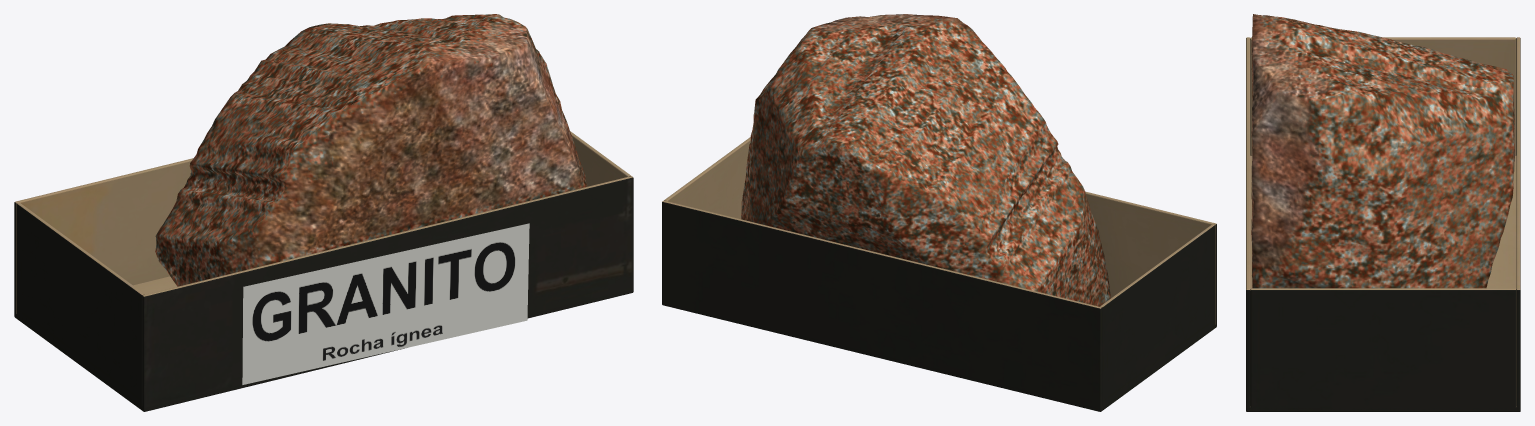
Rendered from rocha_02_06_granito.glb.
3 renders of one model, left to right at view 1: azimuth 30°, elevation 25°; view 2: azimuth 150°, elevation 25°; view 3: azimuth 270°, elevation 25°, orthographic. The views are drawn at different scales.
Visible parts, largest first — view 1: Fragmento_01_mo06, Bandeja_Frente_mo06, Etiqueta_mo06, Bandeja_Esquerda_mo06, Bandeja_Fundo_mo06, Bandeja_Base_mo06, Bandeja_Direita_mo06; view 2: Fragmento_01_mo06, Bandeja_Fundo_mo06, Bandeja_Esquerda_mo06, Bandeja_Frente_mo06, Bandeja_Direita_mo06, Bandeja_Base_mo06; view 3: Fragmento_01_mo06, Bandeja_Direita_mo06, Bandeja_Esquerda_mo06, Bandeja_Base_mo06, Bandeja_Frente_mo06, Bandeja_Fundo_mo06.
Boxes of the visible parts, x1,y1,x2,y2 form: Fragmento_01_mo06: (155, 14, 587, 286); Bandeja_Frente_mo06: (142, 176, 633, 411); Etiqueta_mo06: (242, 223, 529, 384); Bandeja_Esquerda_mo06: (16, 202, 144, 406); Bandeja_Fundo_mo06: (14, 158, 193, 316); Bandeja_Base_mo06: (14, 276, 633, 411); Bandeja_Direita_mo06: (570, 131, 630, 186); Fragmento_01_mo06: (741, 14, 1110, 306); Bandeja_Fundo_mo06: (662, 200, 1102, 411); Bandeja_Esquerda_mo06: (1100, 224, 1214, 409); Bandeja_Frente_mo06: (1085, 191, 1216, 324); Bandeja_Direita_mo06: (664, 137, 750, 219); Bandeja_Base_mo06: (662, 302, 1216, 411); Fragmento_01_mo06: (1251, 14, 1514, 288); Bandeja_Direita_mo06: (1250, 288, 1516, 411); Bandeja_Esquerda_mo06: (1250, 37, 1516, 155); Bandeja_Base_mo06: (1246, 156, 1520, 411); Bandeja_Frente_mo06: (1246, 37, 1250, 411); Bandeja_Fundo_mo06: (1516, 37, 1520, 411).
Size of the model in its own units: 0.2 by 0.109 by 0.0921.
3 materials, 3 textured.
